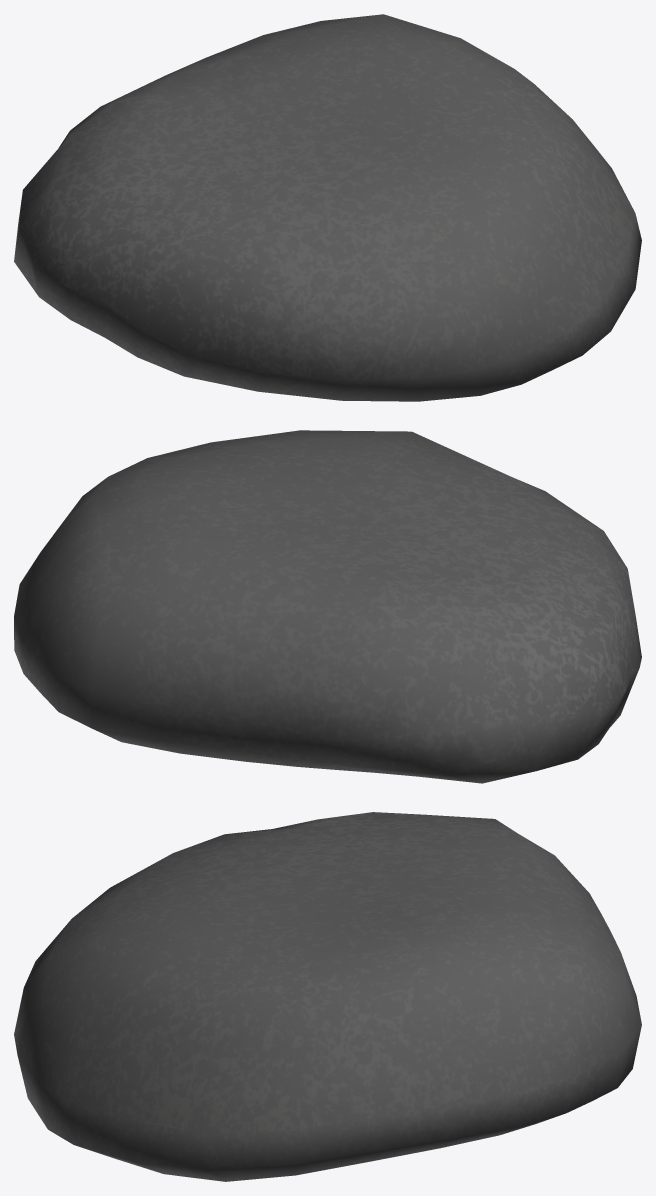
Rendered from Rock2.fbx.
3 renders of one model, top to bottom at view 1: azimuth 30°, elevation 25°; view 2: azimuth 150°, elevation 25°; view 3: azimuth 270°, elevation 25°, orthographic. The views are drawn at different scales.
Parts seen in each view (by area): view 1: SM_Flat_Rock_02:Mesh; view 2: SM_Flat_Rock_02:Mesh; view 3: SM_Flat_Rock_02:Mesh.
Boxes of the visible parts, left/top/right/bottom form: SM_Flat_Rock_02:Mesh: left=14, top=14, right=641, bottom=401; SM_Flat_Rock_02:Mesh: left=14, top=430, right=641, bottom=783; SM_Flat_Rock_02:Mesh: left=14, top=812, right=641, bottom=1181.
Bounding box in the file's own units: 24.4 × 9.1 × 23.15.
Materials: 1 (1 with a texture image).
